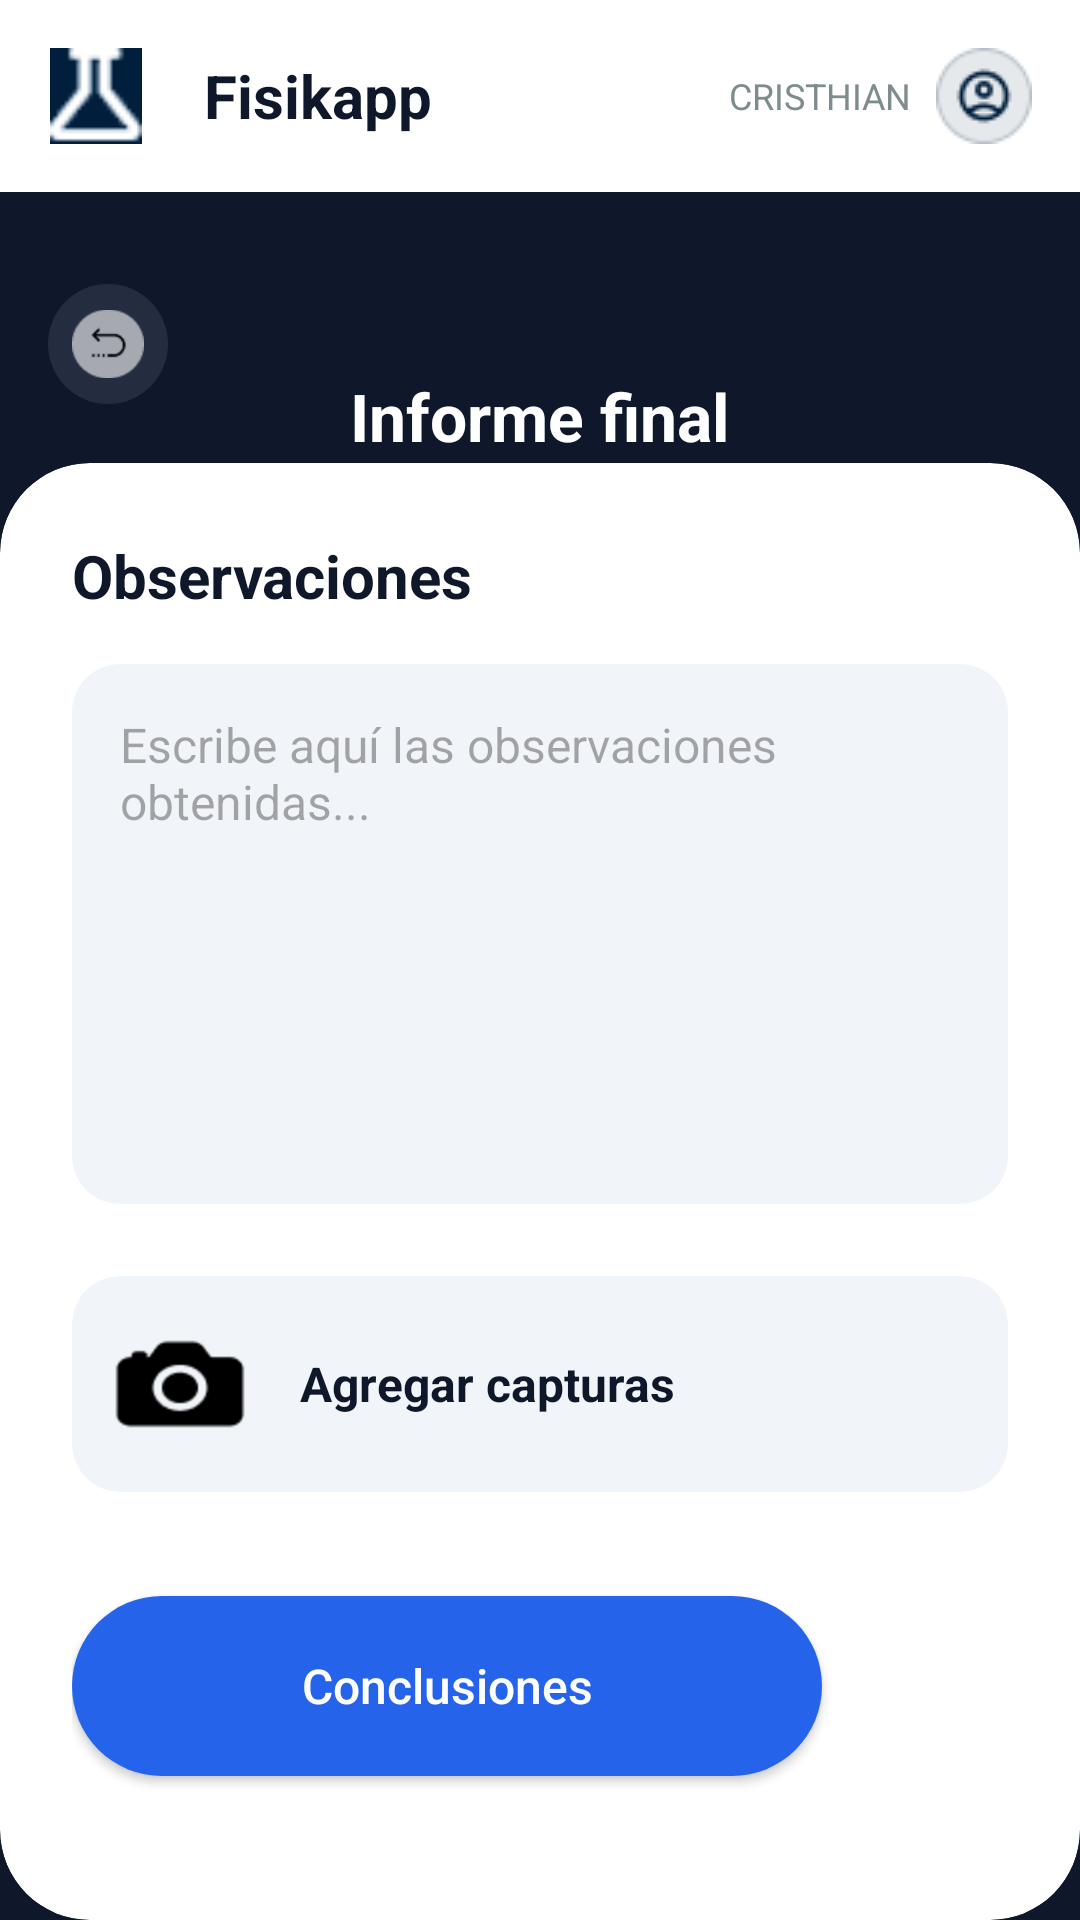

Screen size 1080px×1920px. Icon name, then its box in pixels as (x1, y1, x2, y2):
Atrás: (72, 310, 144, 378)
Cámara: (115, 1340, 245, 1428)
iconousuario: (936, 48, 1032, 144)
